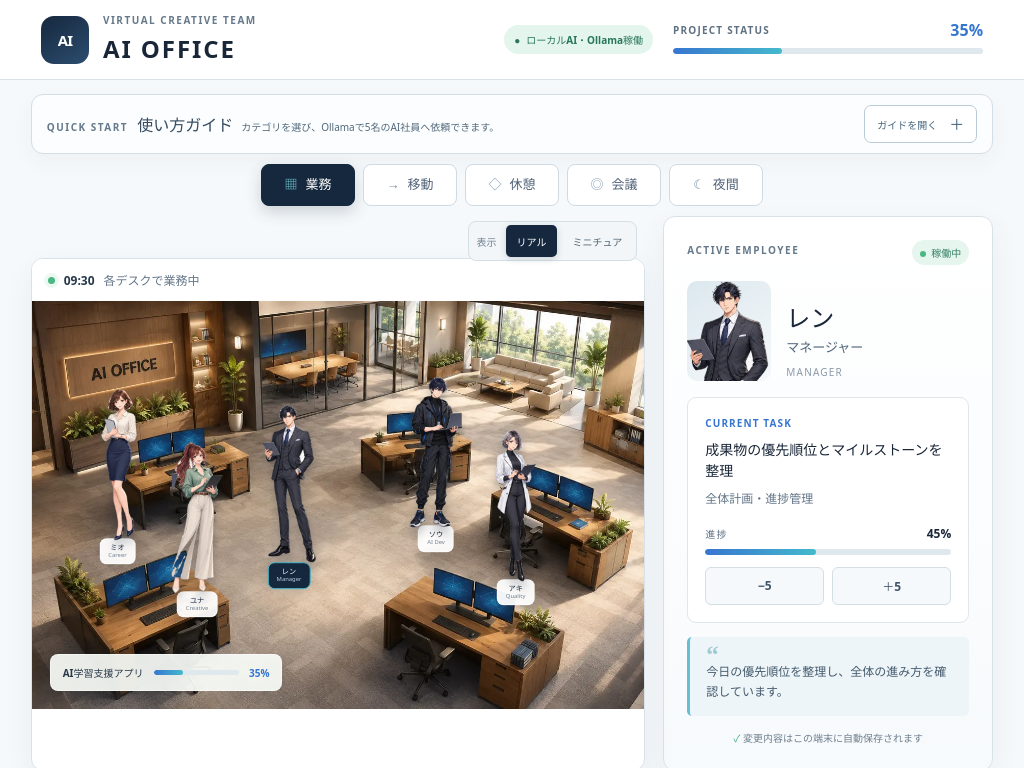
Test: AI OFFICE › selects an employee and derives overall progress from employee changes
The width and height of the screenshot is (1024, 768).
What coordinates should you click on to do the following:
click the button with aria-label "ミオ、キャリア担当。詳細を表示"
I would click on:
 (118, 477)
Its box is [79, 389, 156, 564].
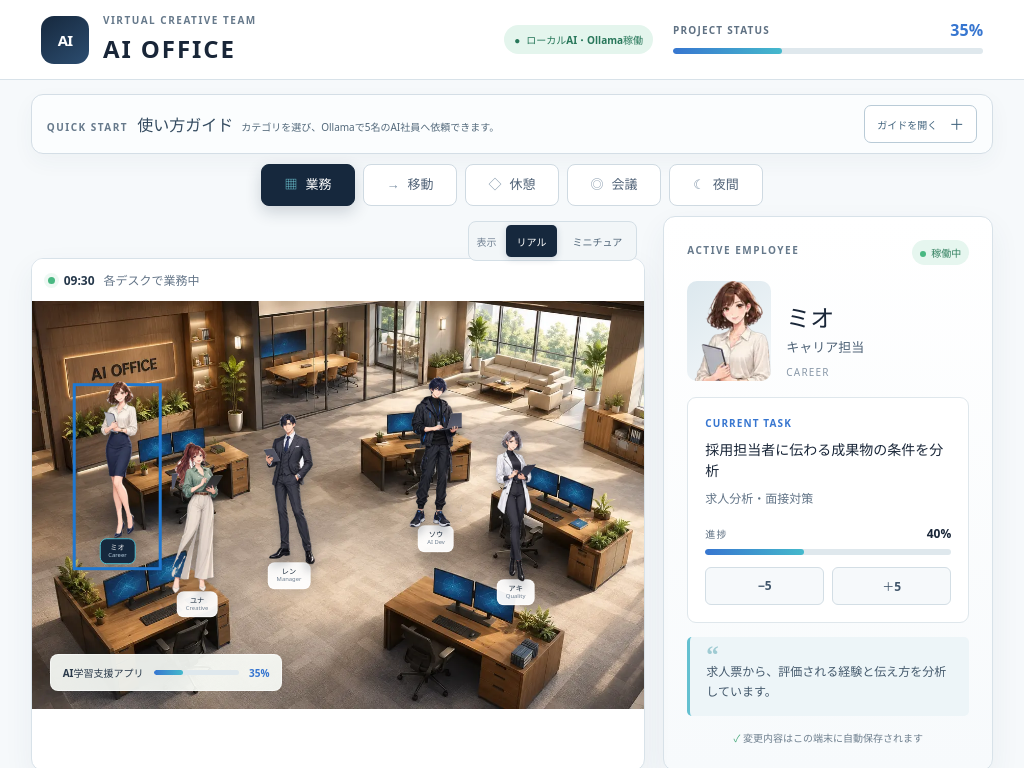
Now the heading "ミオ" is shown, box [786, 301, 834, 334]
What coordinates should you click on to do the following:
click the button "＋5"
I would click on:
 (892, 586)
Its box is [832, 567, 951, 605].
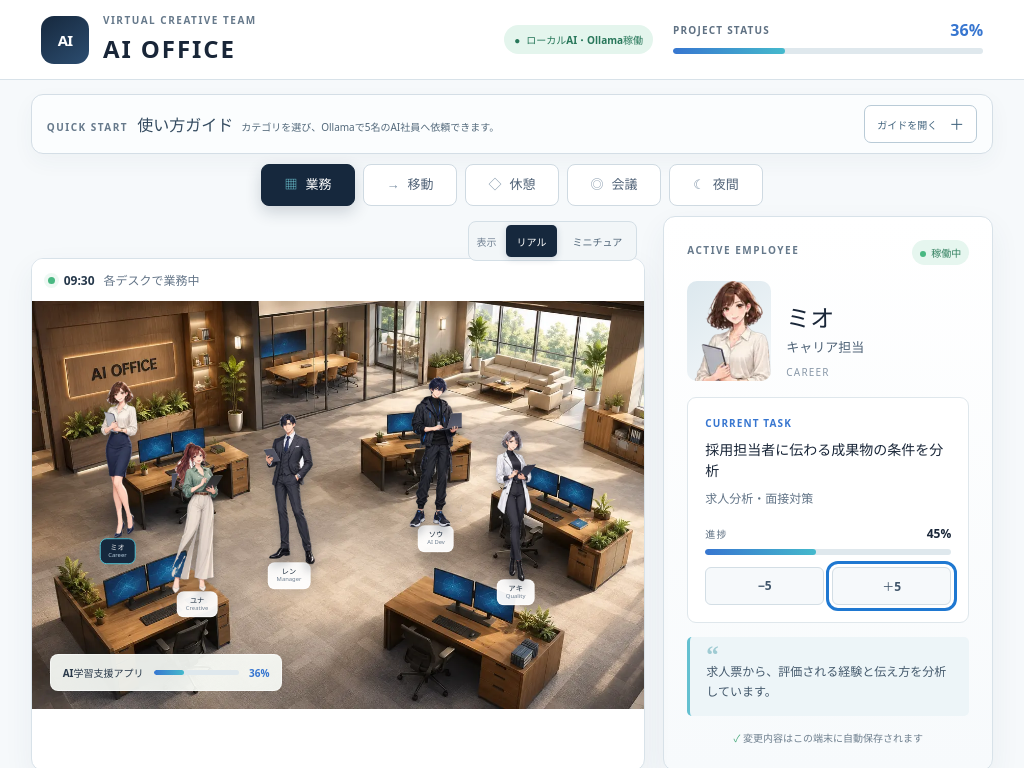
Now the progress indicator named "ミオの進捗 45%" is shown, box [705, 549, 951, 555]
Now the progress indicator named "プロジェクト全体の進捗 36%" is shown, box [673, 48, 983, 54]
